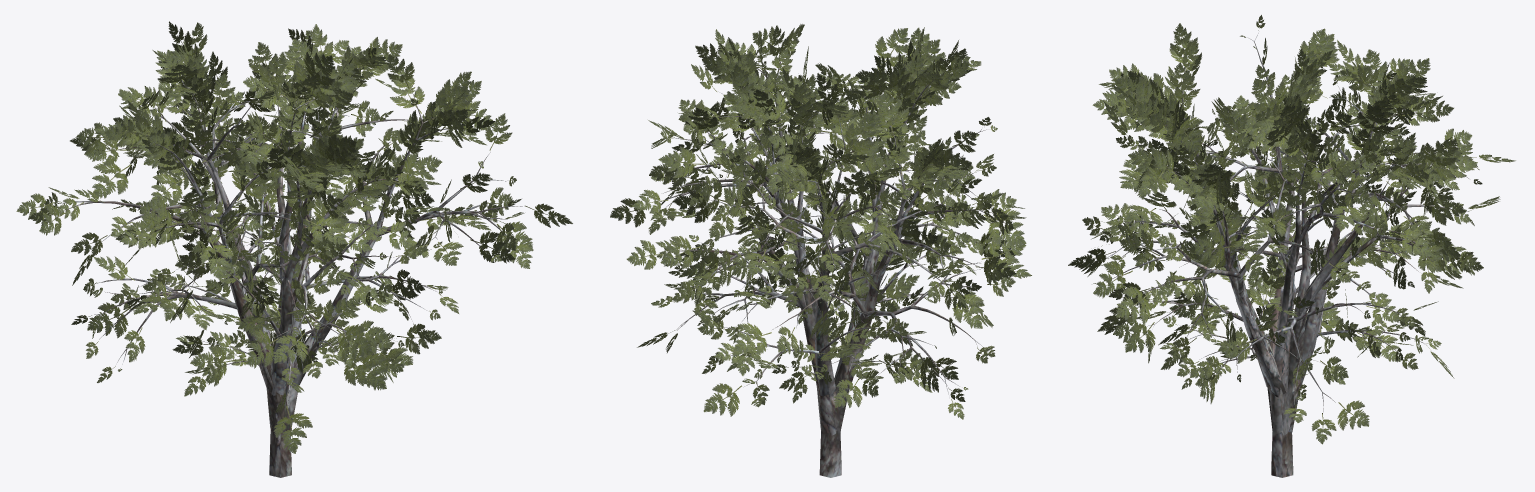
Rendered from tree3.fbx.
3 renders of one model, left to right at view 1: azimuth 30°, elevation 25°; view 2: azimuth 150°, elevation 25°; view 3: azimuth 270°, elevation 25°, orthographic. The views are drawn at different scales.
Visible parts, largest first — view 1: tree3_LOD0; view 2: tree3_LOD0; view 3: tree3_LOD0.
Part boxes in pixels (x1,y1,x2,y2): tree3_LOD0: [16, 21, 572, 477]; tree3_LOD0: [610, 24, 1031, 477]; tree3_LOD0: [1068, 15, 1515, 477].
Size of what is drawn, in the model's own units: 1716 by 1613 by 1573.
